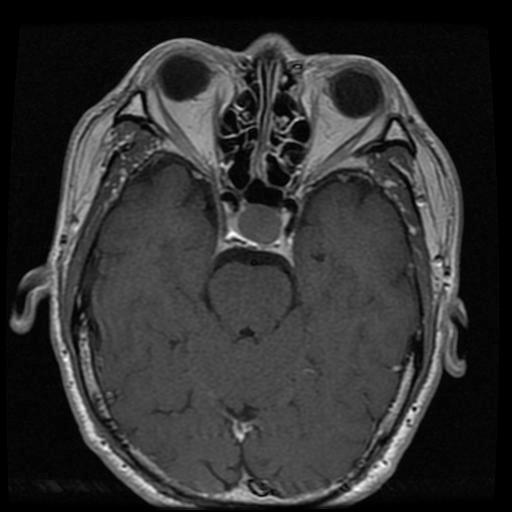Tumour-Pituitary: (212, 203, 305, 266)
